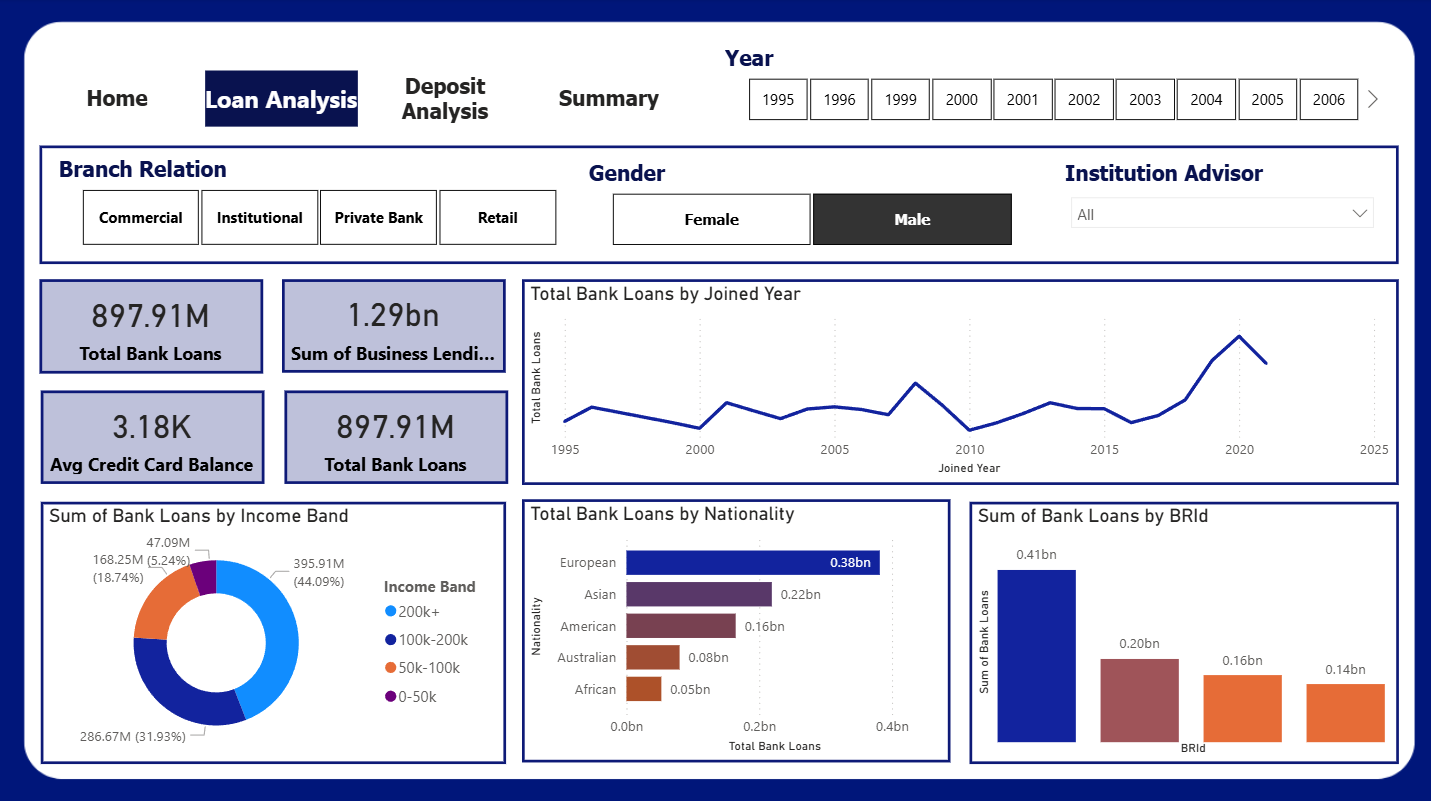

The page's visual inventory and layout, read from the dashboard file:
{"tool":"powerbi","page":{"name":"Loan Analysis","canvas":[1280,720],"ordinal":1},"visuals":[{"type":"shape","box":[37.5,131.3,1210.5,105.3],"z":0},{"type":"card","fields":{"Values":["Banking.Total Bank Loans"]},"box":[37.9,250.5,199.1,83.7],"z":1000},{"type":"card","fields":{"Values":["Banking.Total Bank Loans"]},"box":[255.5,349.7,199.1,83],"z":2000},{"type":"card","fields":{"Values":["Sum(Banking.Business Lending)"]},"box":[254.3,250.5,199.1,83],"z":3000},{"type":"card","fields":{"Values":["Banking.Avg Credit Card Balance"]},"box":[39.1,349.7,199.1,83],"z":4000},{"type":"donutChart","fields":{"Category":["Banking.Income Band"],"Y":["Sum(Banking.Bank Loans)"]},"box":[39.4,448.1,414.1,233.7],"z":5000},{"type":"clusteredColumnChart","fields":{"Category":["Banking.BRId"],"Y":["Sum(Banking.Bank Loans)"]},"box":[866.1,448.1,382.3,233.7],"z":6000},{"type":"clusteredBarChart","fields":{"Category":["Banking.Nationality"],"Y":["Banking.Total Bank Loans"]},"box":[467.5,446.6,381.6,234.4],"z":7000},{"type":"lineChart","fields":{"Category":["Banking.Joined Year"],"Y":["Banking.Total Bank Loans"]},"box":[467.9,250.5,780.5,183.2],"z":8000},{"type":"slicer","title":"Institution Advisor","fields":{"Values":["Banking.IAId"]},"box":[946.5,144.3,290,82.2],"z":9000},{"type":"slicer","title":"Gender","fields":{"Values":["Banking.GenderId"]},"box":[522.3,144.3,405.4,82.2],"z":10000},{"type":"slicer","title":"Branch Relation","fields":{"Values":["Banking.BRId"]},"box":[50.5,141.4,471.8,85.1],"z":11000},{"type":"slicer","title":"Year","fields":{"Values":["Banking.Joined Year"]},"box":[643.5,41.8,593,73.6],"z":12000},{"type":"pageNavigator","box":[39,64.9,577.1,50.5],"z":13000}]}

Visuals, with their boxes in screenshot pixels (x1, y1, x2, y2), scaled from the page's 1280x720 canvas onto the 1431x801 screenshot:
shape: l=42, t=146, r=1395, b=263
card - Banking.Total Bank Loans: l=42, t=279, r=265, b=372
card - Banking.Total Bank Loans: l=286, t=389, r=508, b=481
card - Sum(Banking.Business Lending): l=284, t=279, r=507, b=371
card - Banking.Avg Credit Card Balance: l=44, t=389, r=266, b=481
donutChart - Banking.Income Band x Sum(Banking.Bank Loans): l=44, t=499, r=507, b=759
clusteredColumnChart - Banking.BRId x Sum(Banking.Bank Loans): l=968, t=499, r=1396, b=759
clusteredBarChart - Banking.Nationality x Banking.Total Bank Loans: l=523, t=497, r=949, b=758
lineChart - Banking.Joined Year x Banking.Total Bank Loans: l=523, t=279, r=1396, b=482
"Institution Advisor" slicer: l=1058, t=161, r=1382, b=252
"Gender" slicer: l=584, t=161, r=1037, b=252
"Branch Relation" slicer: l=56, t=157, r=584, b=252
"Year" slicer: l=719, t=47, r=1382, b=128
pageNavigator: l=44, t=72, r=689, b=128
